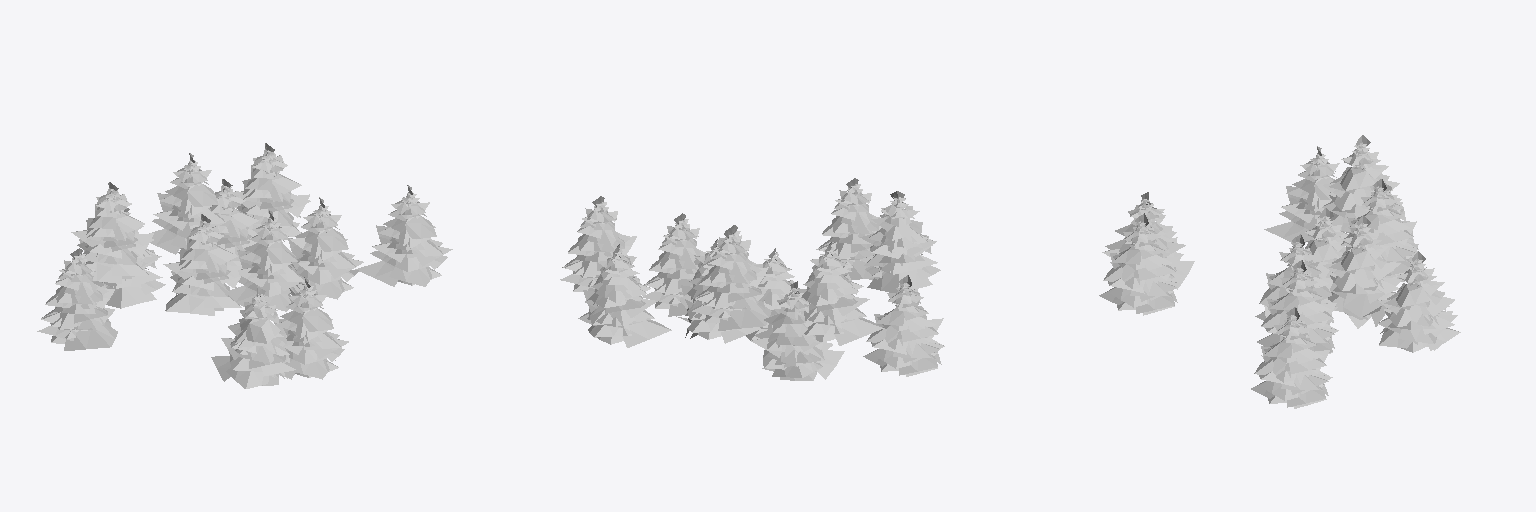
Rendered from scenetrees.obj.
3 renders of one model, left to right at view 1: azimuth 30°, elevation 25°; view 2: azimuth 150°, elevation 25°; view 3: azimuth 270°, elevation 25°, orthographic.
Parts seen in each view (by area): view 1: tree_pine_joined.003; view 2: tree_pine_joined.003; view 3: tree_pine_joined.003.
Boxes of the visible parts, box(x1,y1,x2,y2) form: tree_pine_joined.003: box(37, 143, 452, 388); tree_pine_joined.003: box(560, 178, 944, 380); tree_pine_joined.003: box(1099, 135, 1460, 408).
Size of the model in its own units: 21.5 by 7.39 by 17.34.